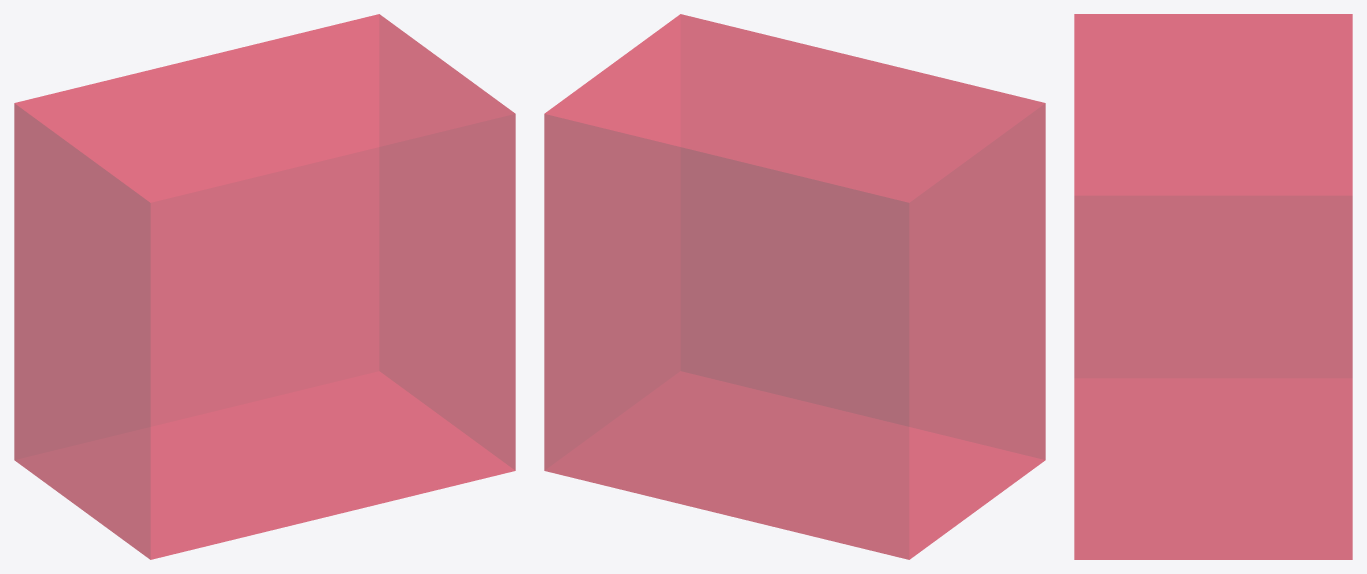
File: NightStand_01_collision.DAE
3 views of the same model, side by side, from view 1: azimuth 30°, elevation 25°; view 2: azimuth 150°, elevation 25°; view 3: azimuth 270°, elevation 25° (orthographic).
Parts seen in each view (by area): view 1: NightStand_01_collision; view 2: NightStand_01_collision; view 3: NightStand_01_collision.
Boxes of the visible parts, x1,y1,x2,y2 form: NightStand_01_collision: [14, 14, 515, 559]; NightStand_01_collision: [544, 14, 1045, 559]; NightStand_01_collision: [1074, 14, 1352, 559].
Bounding box in the file's own units: 74.08 × 47.91 × 69.23.
